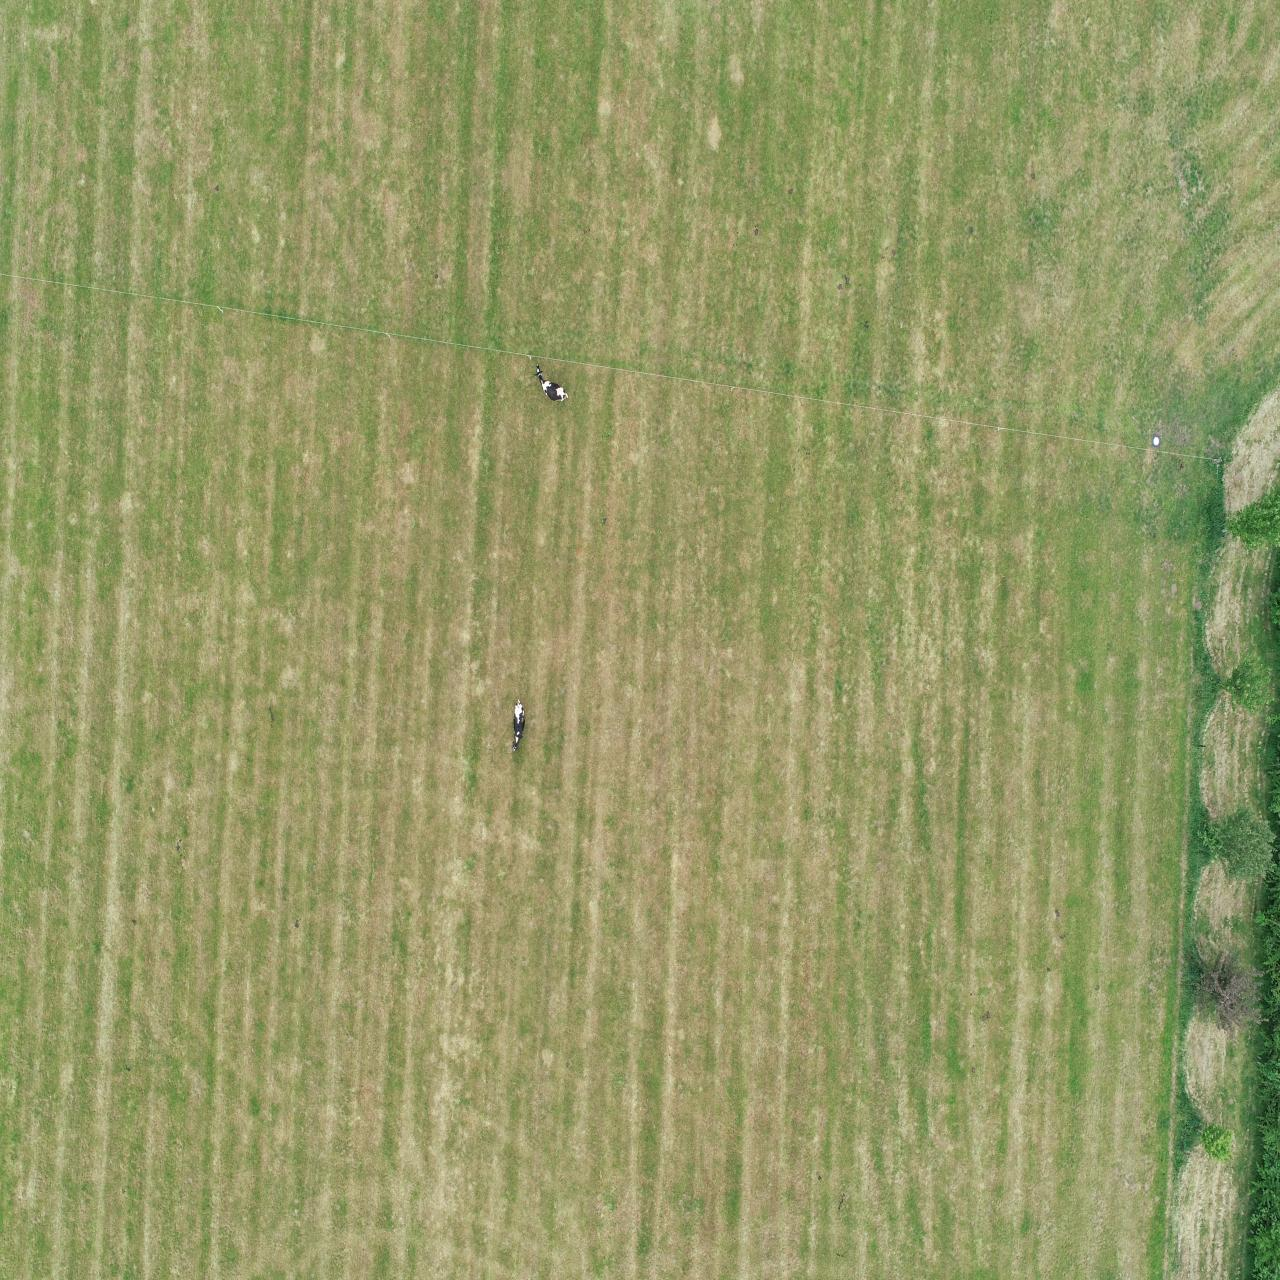cow: (533, 361, 570, 404), (510, 697, 526, 754)
